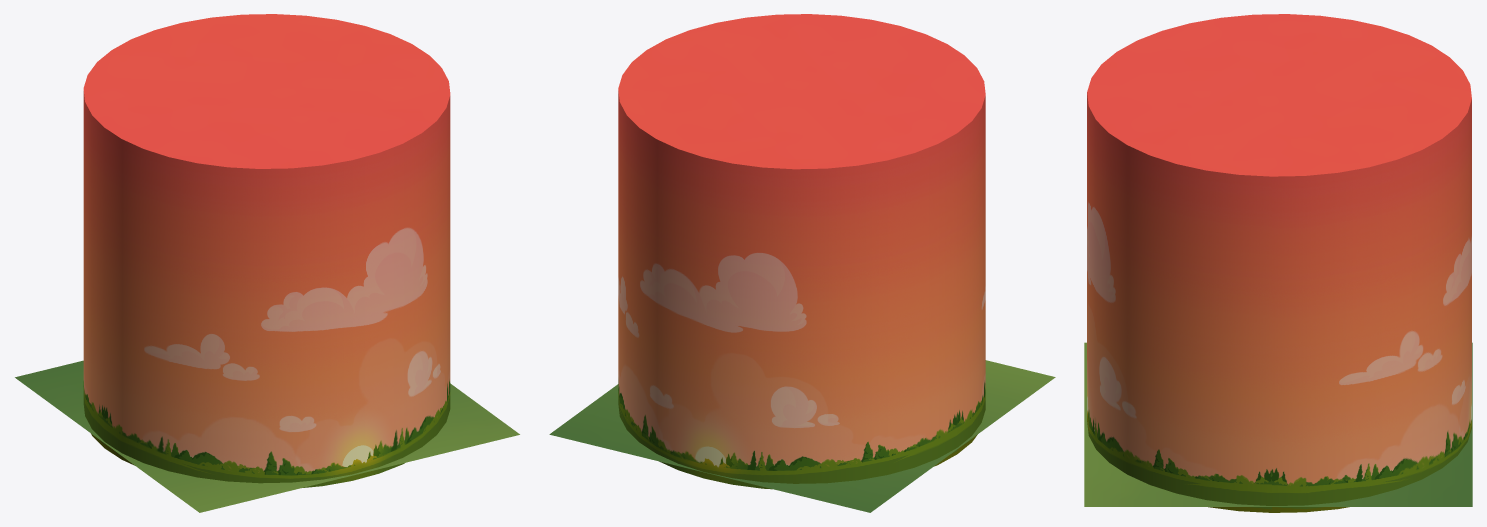
File: map bat ga.fbx
3 views of the same model, side by side, from view 1: azimuth 30°, elevation 25°; view 2: azimuth 150°, elevation 25°; view 3: azimuth 270°, elevation 25° (orthographic). The views are drawn at different scales.
Visible parts, largest first — view 1: back_field, nen_co; view 2: back_field, nen_co; view 3: back_field, nen_co.
Part boxes in pixels (box(x1,y1,x2,y2)): back_field: box(83, 14, 450, 487); nen_co: box(15, 360, 519, 512); back_field: box(618, 14, 985, 489); nen_co: box(549, 360, 1055, 512); back_field: box(1087, 14, 1471, 512); nen_co: box(1084, 342, 1472, 506).
Bounding box in the file's own units: 9377 × 9014 × 9377.
6 materials, 2 textured.
